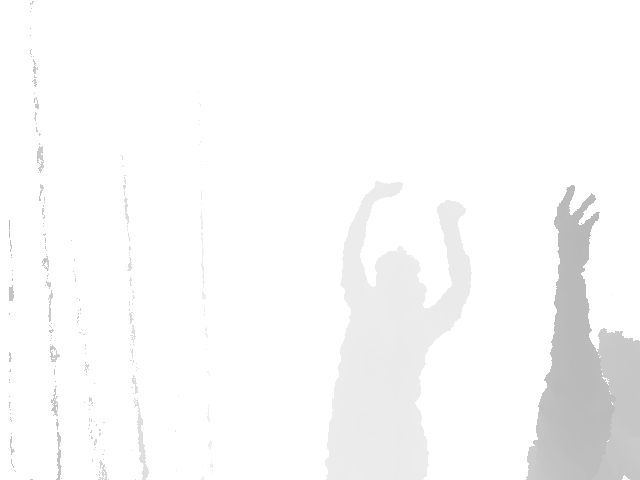hand: (553, 187, 600, 263), (436, 200, 466, 219), (370, 182, 403, 198)
head: (374, 245, 419, 296)
person: (324, 182, 474, 479), (525, 187, 640, 480)
